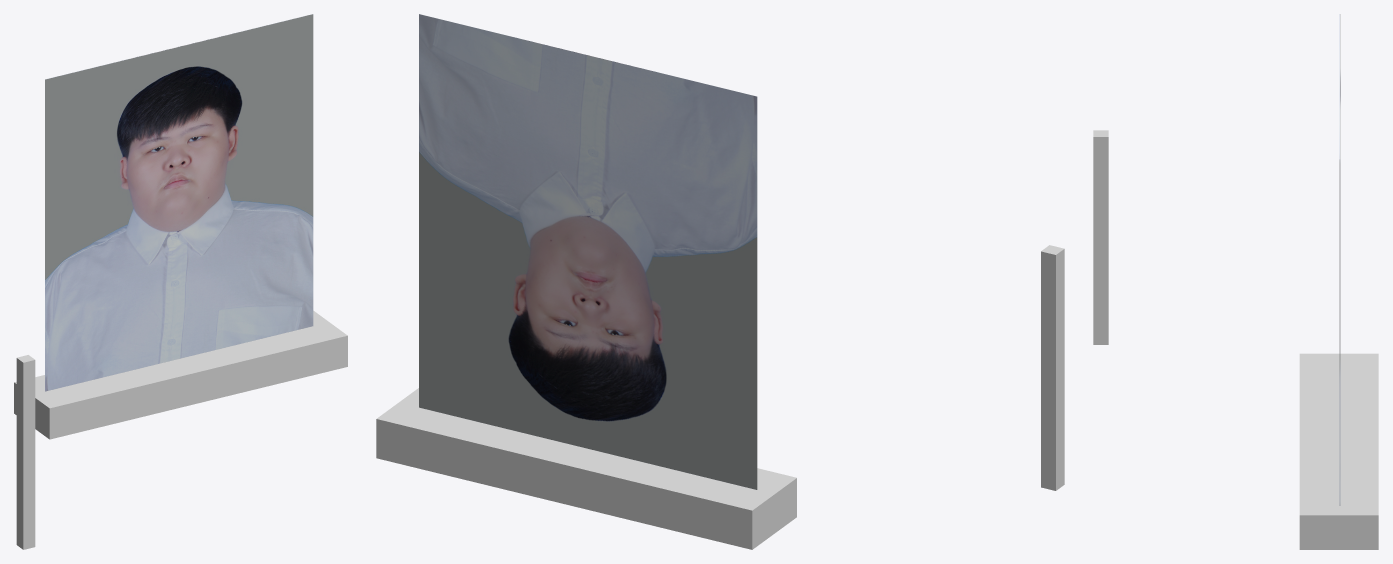
File: pic6.glb
3 renders of one model, left to right at view 1: azimuth 30°, elevation 25°; view 2: azimuth 150°, elevation 25°; view 3: azimuth 270°, elevation 25°, orthographic. The views are drawn at different scales.
Visible parts, largest first — view 1: Cube, Cube.001, Cube.002; view 2: Cube, Cube.001, Cube.002; view 3: Cube.001, Cube.002, Cube.
Boxes of the visible parts, bbox=[...] form: Cube: bbox=[45, 14, 313, 391]; Cube.001: bbox=[14, 310, 347, 439]; Cube.002: bbox=[16, 355, 35, 549]; Cube: bbox=[419, 14, 757, 489]; Cube.001: bbox=[376, 388, 796, 549]; Cube.002: bbox=[1041, 245, 1064, 490]; Cube.001: bbox=[1299, 353, 1378, 549]; Cube.002: bbox=[1093, 130, 1108, 344]; Cube: bbox=[1339, 14, 1340, 505].
Bounding box in the file's own units: 69.99 × 57.17 × 37.33.
1 material, 1 textured.
